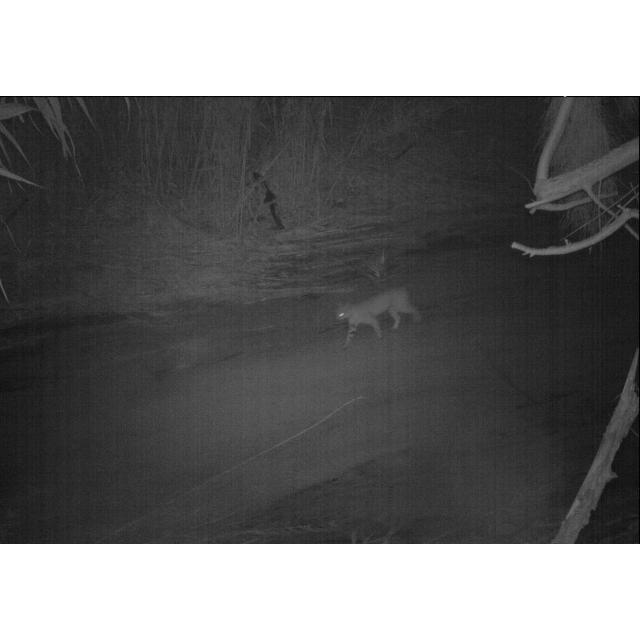animals: (330, 292, 426, 348)
